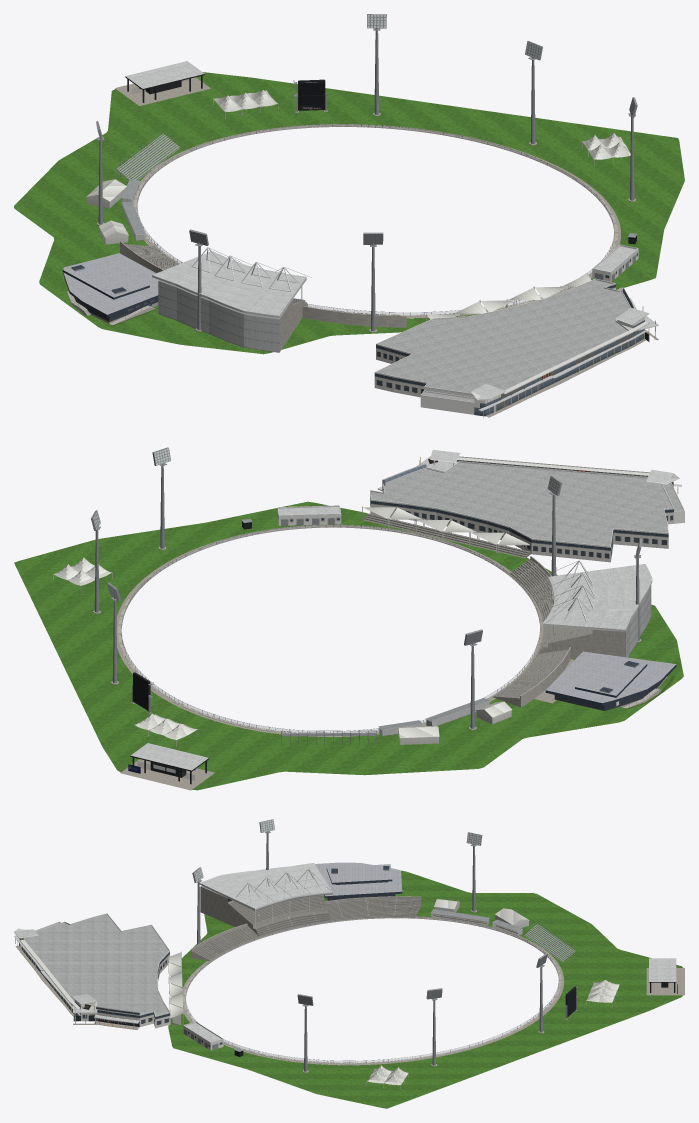
File: cazalys.glb
3 views of the same model, one above another, from view 1: azimuth 30°, elevation 25°; view 2: azimuth 150°, elevation 25°; view 3: azimuth 270°, elevation 25° (orthographic). The views are drawn at different scales.
Parts seen in each view (by area): view 1: ground, extras, stands, roofs, towers, fence, fascia_smooth; view 2: ground, extras, stands, roofs, towers, fence, fascia_smooth, seat_posts; view 3: ground, extras, stands, roofs, towers, fence, seat_posts, fascia_smooth.
Boxes of the visible parts, x1,y1,x2,y2 form: ground: (14, 72, 684, 354); extras: (63, 61, 658, 418); stands: (120, 241, 406, 352); roofs: (152, 247, 311, 317); towers: (96, 14, 637, 332); fence: (137, 124, 614, 314); fascia_smooth: (62, 270, 158, 321); ground: (14, 501, 683, 790); extras: (53, 450, 684, 790); stands: (493, 556, 651, 707); roofs: (542, 560, 652, 635); towers: (91, 447, 641, 730); fence: (121, 524, 540, 732); fascia_smooth: (545, 664, 676, 710); seat_posts: (120, 513, 587, 732); ground: (168, 870, 682, 1108); extras: (14, 862, 684, 1089); stands: (191, 886, 421, 961); roofs: (199, 863, 332, 927); towers: (192, 819, 547, 1072); fence: (186, 916, 558, 1062); seat_posts: (184, 896, 560, 1063); fascia_smooth: (324, 868, 402, 900).
Bounding box in the file's own units: 258 × 39.61 × 307.
Materials: 53 (53 with a texture image).
